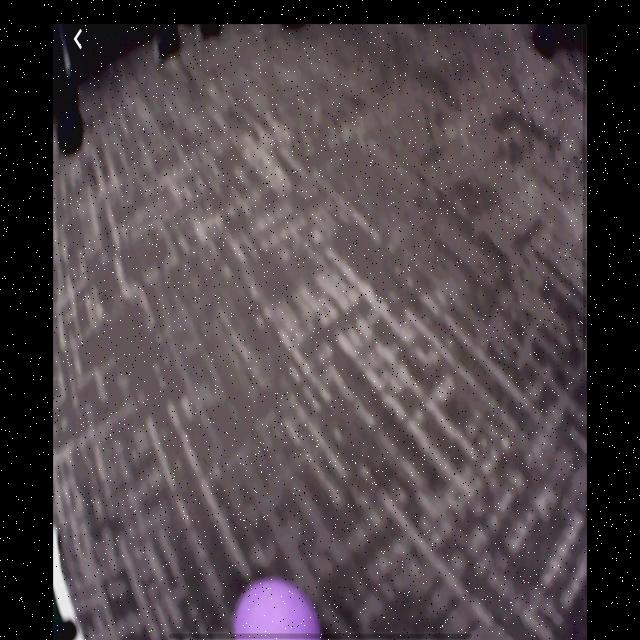ball: (232, 577, 322, 639)
